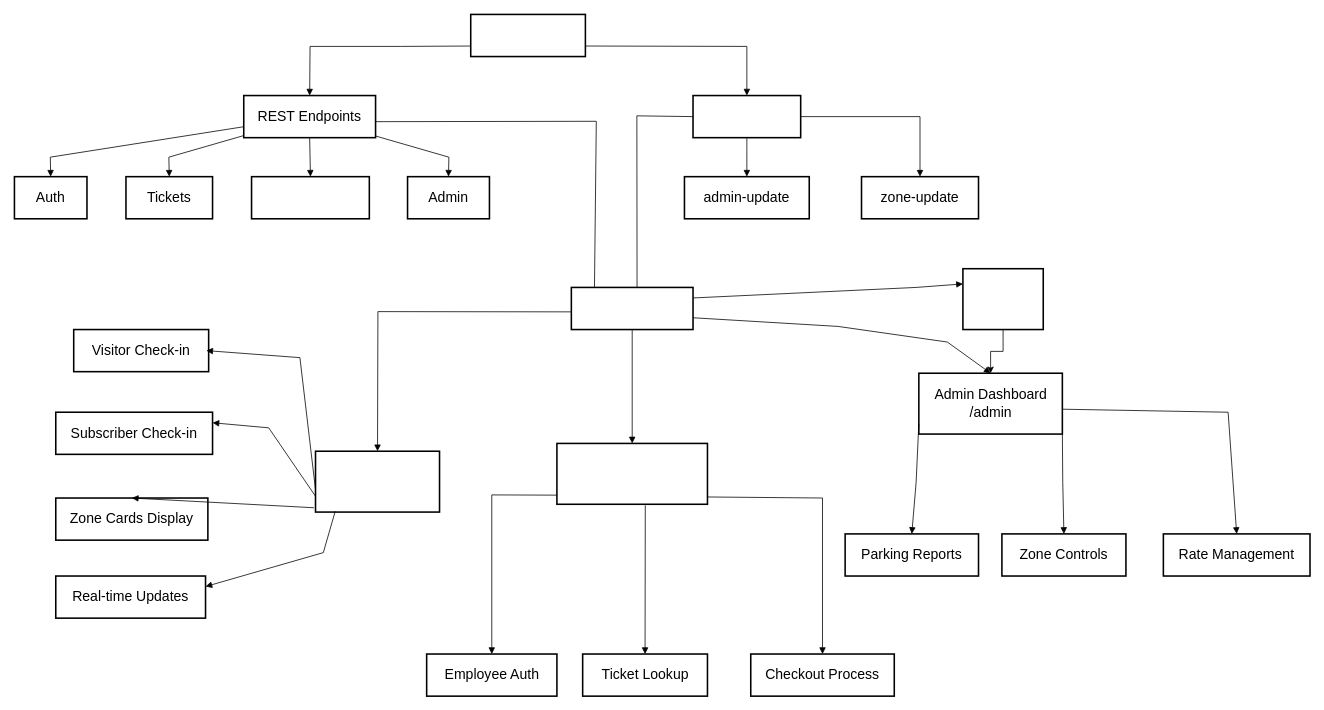
Some shapes in this 1324 by 710 pixel diagram are drawn without their labels. The box of each missing label's shape, as (x1, y1, x2, y2) in pixels:
Backend API: (470, 13, 586, 57)
Checkpoint Screen /checkpoint: (556, 442, 708, 505)
Frontend App: (570, 286, 693, 330)
Gate Screen /gate/:gateId: (314, 450, 440, 512)
Login /login: (962, 268, 1044, 330)
WebSocket: (692, 94, 801, 138)
Zones/Gates: (250, 176, 370, 219)
